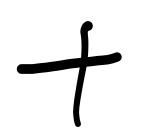plus: (17, 21, 122, 127)
